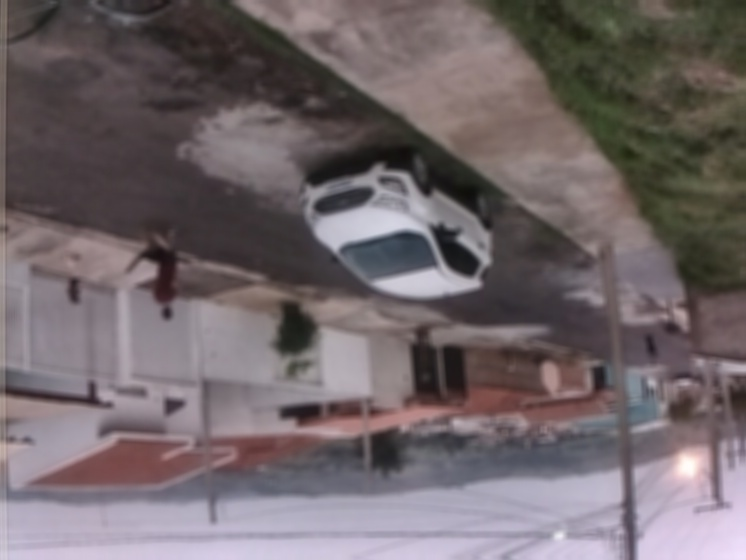person: (145, 222, 184, 321), (60, 252, 83, 304), (643, 333, 661, 368)
